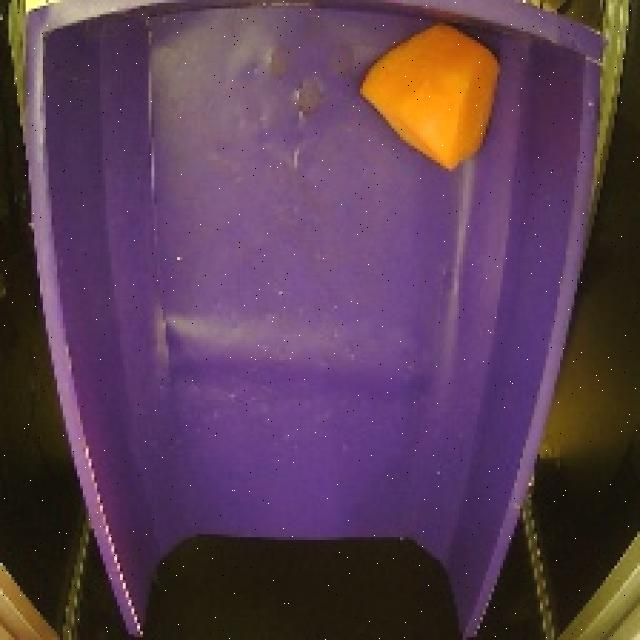carrots: (353, 20, 509, 180)
